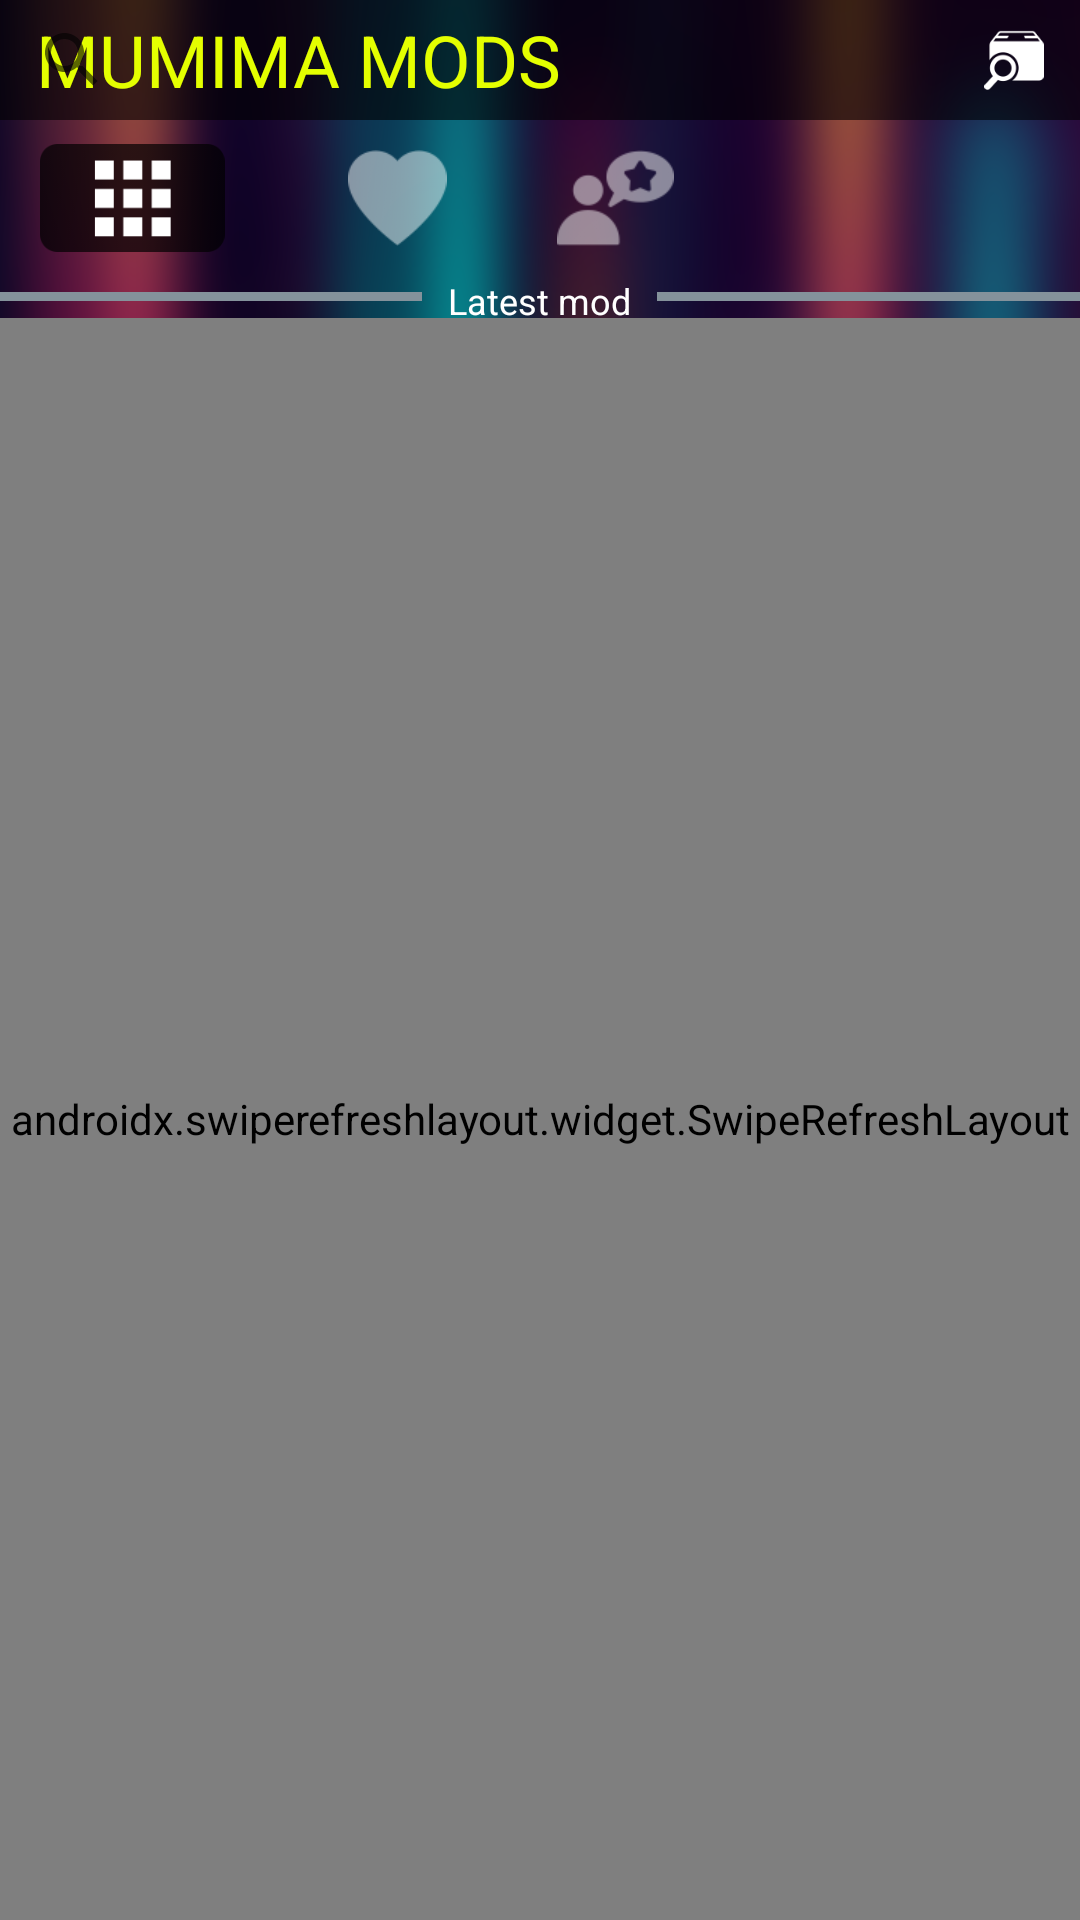

Screen size 1080×1920. Icon name, then its center in pixels as point (x, y):
favourite: point (397, 198)
listmenu: point (132, 198)
rate: point (615, 198)
search: point (1014, 60)
